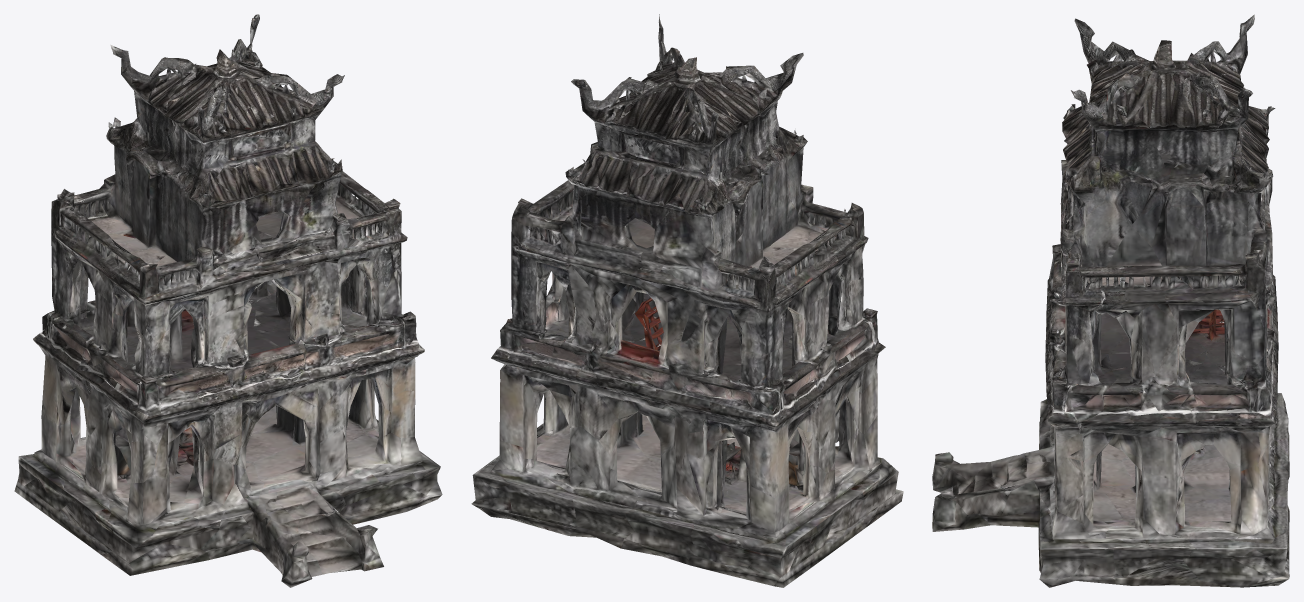
Rendered from thap-rua.glb.
The picture shows the model from 3 angles, left to right: view 1: azimuth 30°, elevation 25°; view 2: azimuth 150°, elevation 25°; view 3: azimuth 270°, elevation 25°; orthographic projection. The views are drawn at different scales.
Size of the model in its own units: 0.711 by 0.9782 by 0.6802.
Materials: 1 (1 with a texture image).
